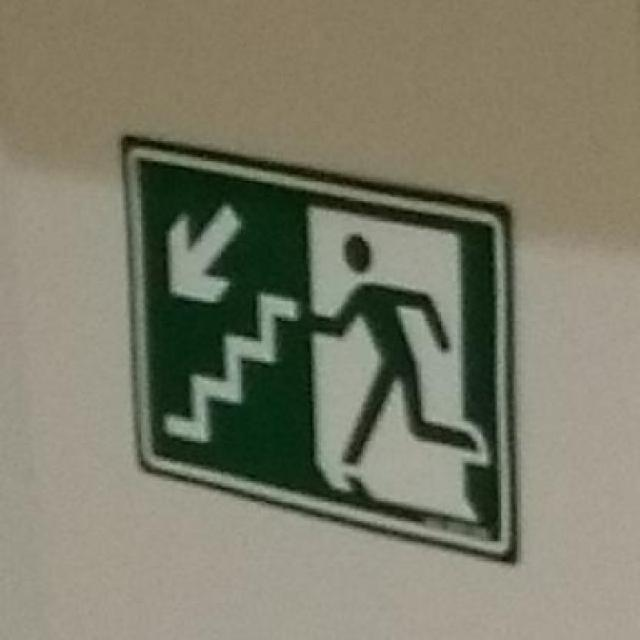emergency_exit: (119, 132, 520, 563)
